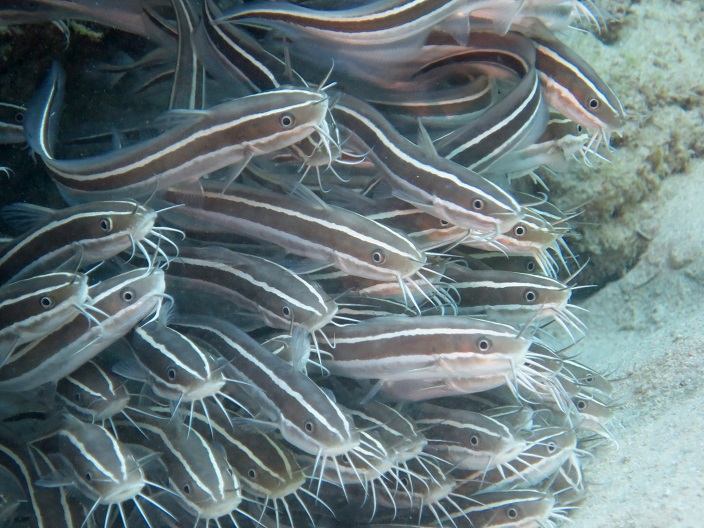gonzui: (29, 64, 337, 196), (308, 317, 521, 381)
